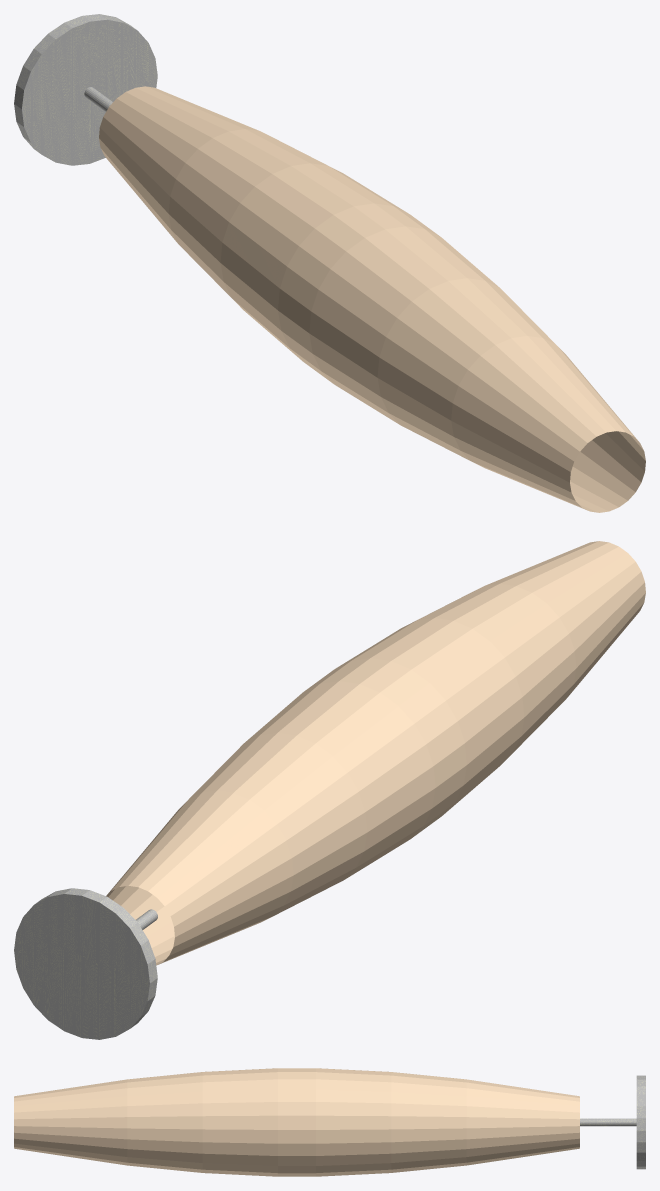
3 views of the same model, one above another, from view 1: azimuth 30°, elevation 25°; view 2: azimuth 150°, elevation 25°; view 3: azimuth 270°, elevation 25° (orthographic). The views are drawn at different scales.
Parts seen in each view (by area): view 1: ikea dun ouml floor lamp; view 2: ikea dun ouml floor lamp; view 3: ikea dun ouml floor lamp.
Part boxes in pixels (x1,y1,x2,y2): ikea dun ouml floor lamp: (14, 14, 645, 512); ikea dun ouml floor lamp: (14, 541, 645, 1039); ikea dun ouml floor lamp: (14, 1068, 645, 1176).
Size of the model in its own units: 11.41 by 11.41 by 65.94.
